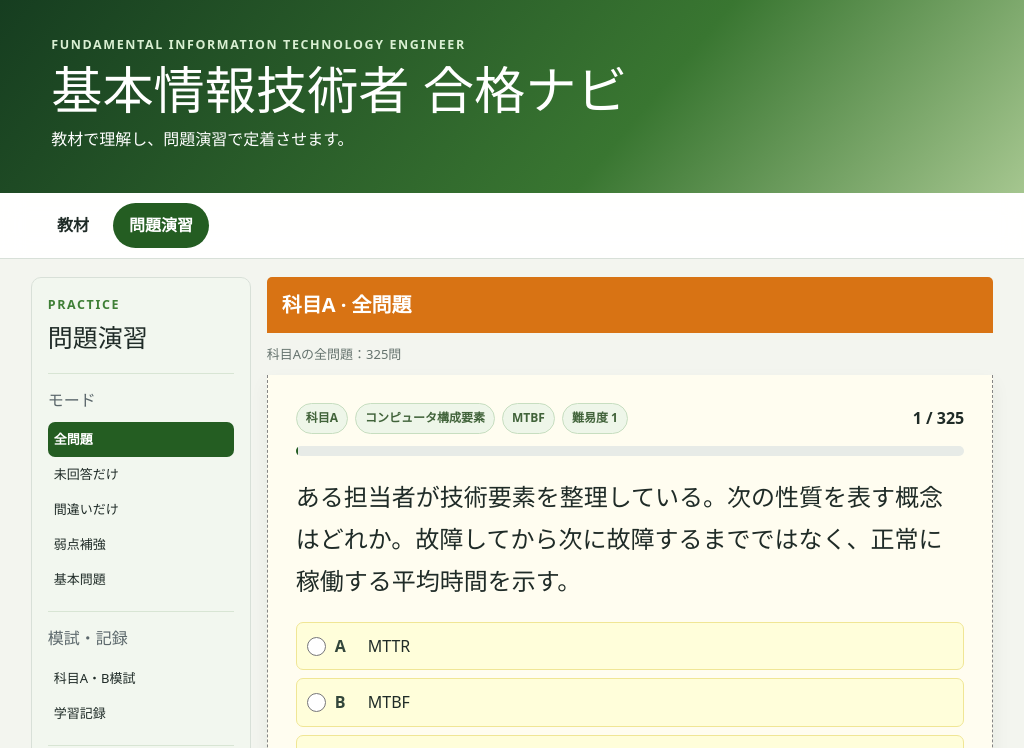
PracticeRunner › 回答直後に解説を自動表示し、解説を見るボタンを出さない
The image size is (1024, 748).
Click the radio button labelled "A MTTR": {"x": 316, "y": 646} [307,637,326,656]
(page scrolled)
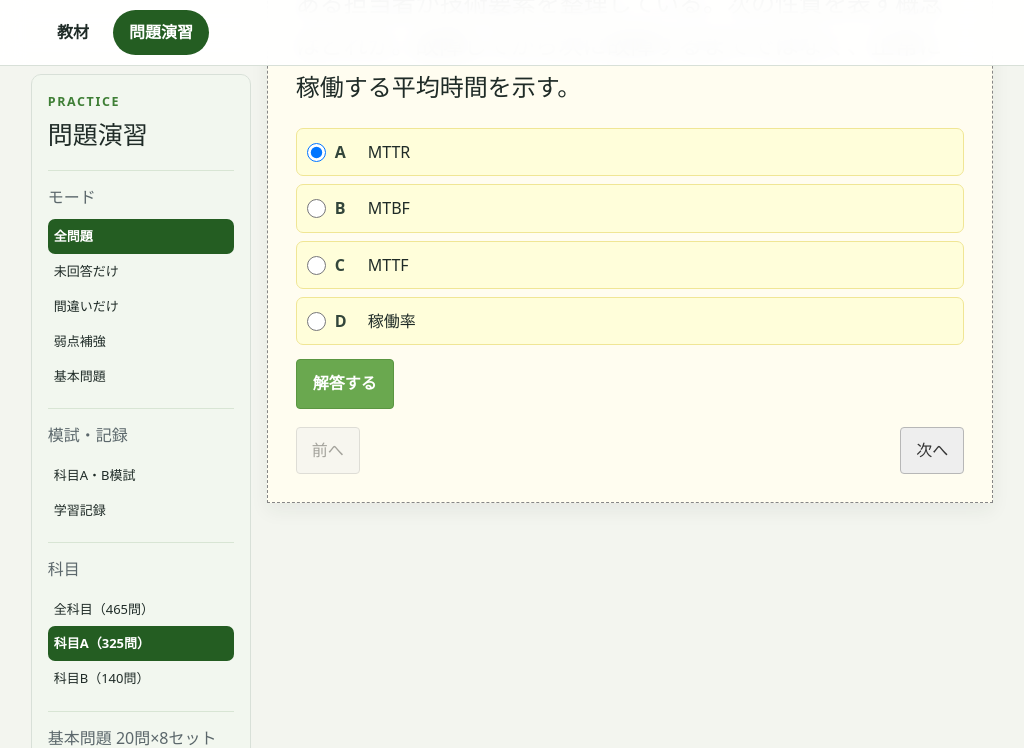
Click the button "解答する": {"x": 345, "y": 384} [296,359,394,409]
(page scrolled)
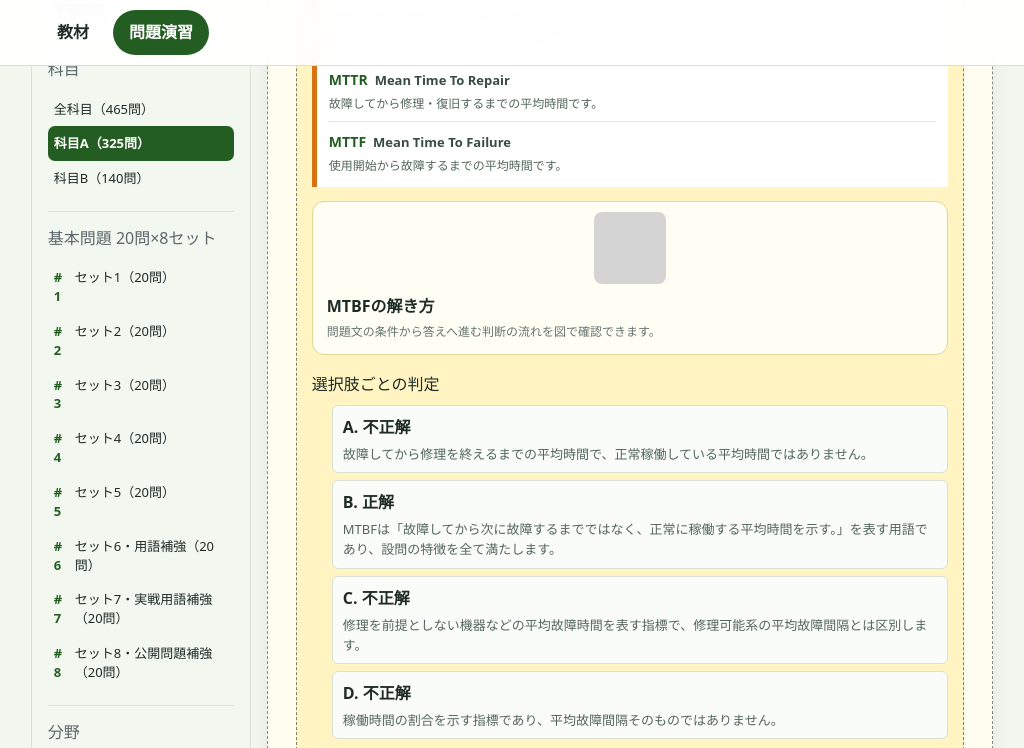
expect the heading "選択肢ごとの判定" is shown: met, box [312,373,440,395]
expect the number of list items with test id "choice-reason" is 4: met, box [332,405,948,473]; [332,480,948,569]; [332,576,948,664]; [332,671,948,739]
